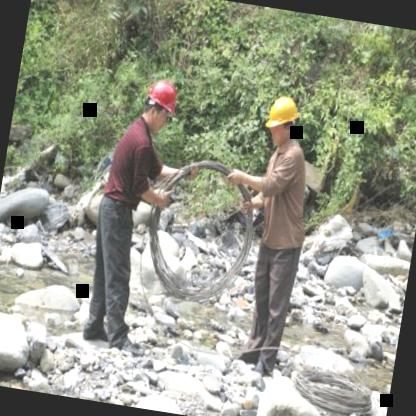helmet: (139, 75, 182, 136), (260, 91, 303, 151)
